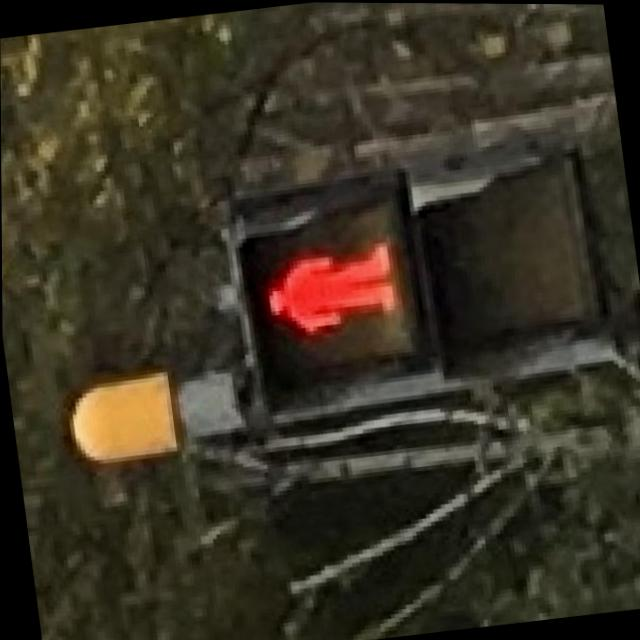red_light: (235, 207, 407, 365)
